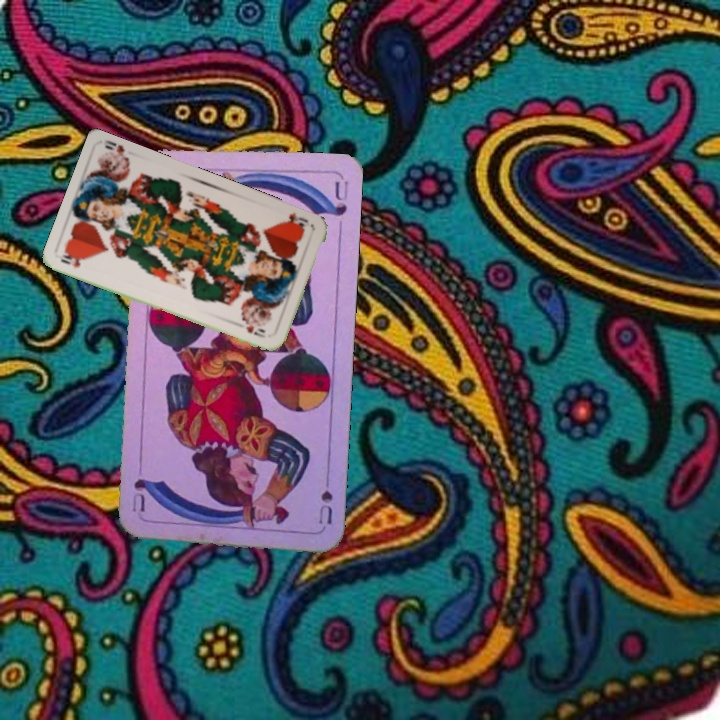HO: (279, 208, 311, 232), (57, 248, 88, 271)
SU: (315, 468, 335, 527)
